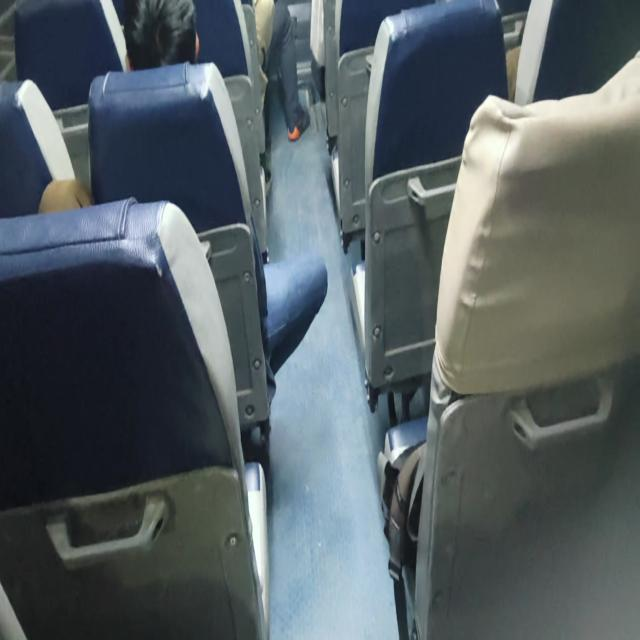person: (126, 0, 206, 59)
